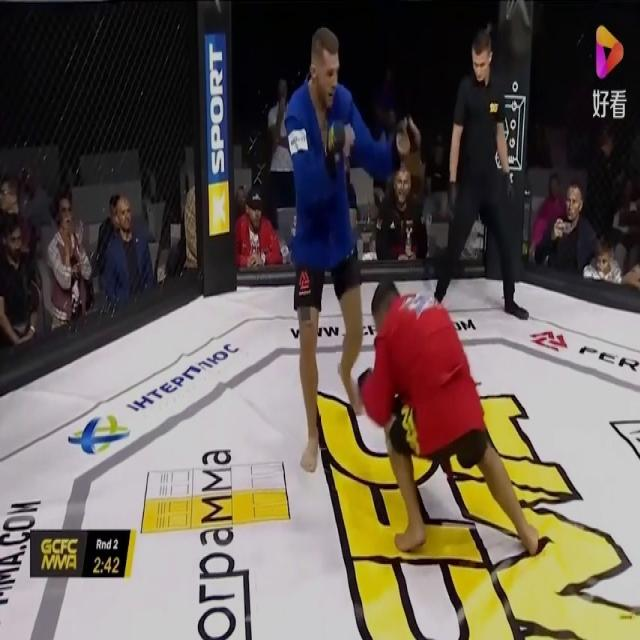fight: (283, 31, 542, 555)
non-fight: (430, 17, 532, 324)
